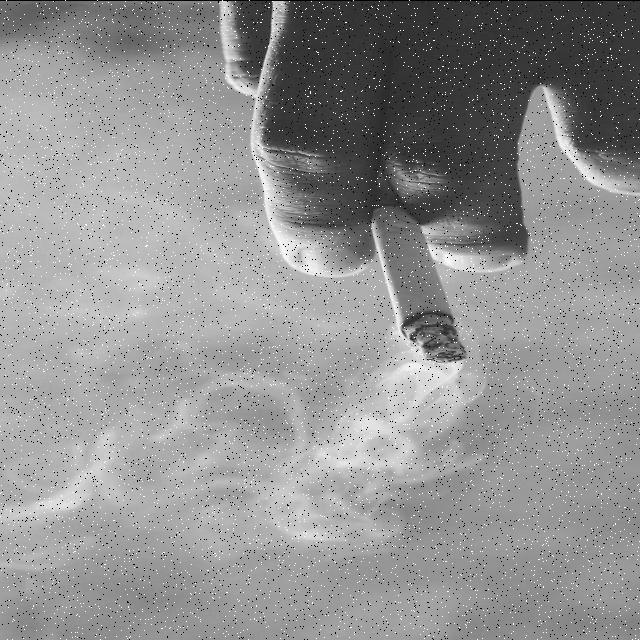cigarette: (364, 194, 474, 372)
